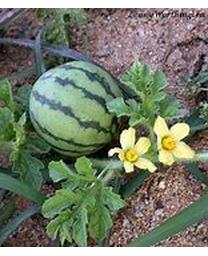watermelon: (29, 59, 124, 155)
